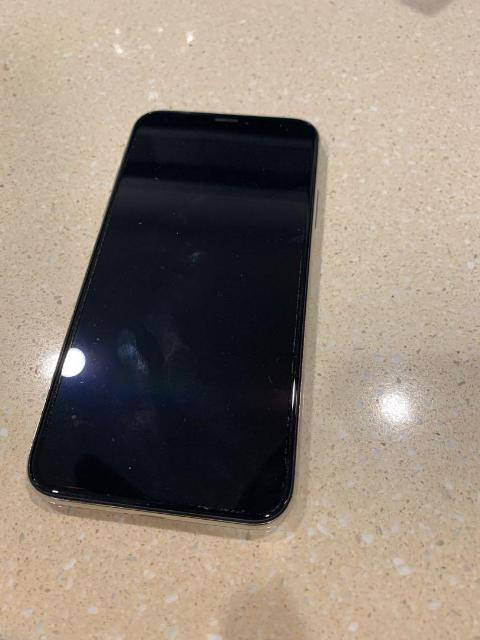phone good: (17, 105, 335, 533)
